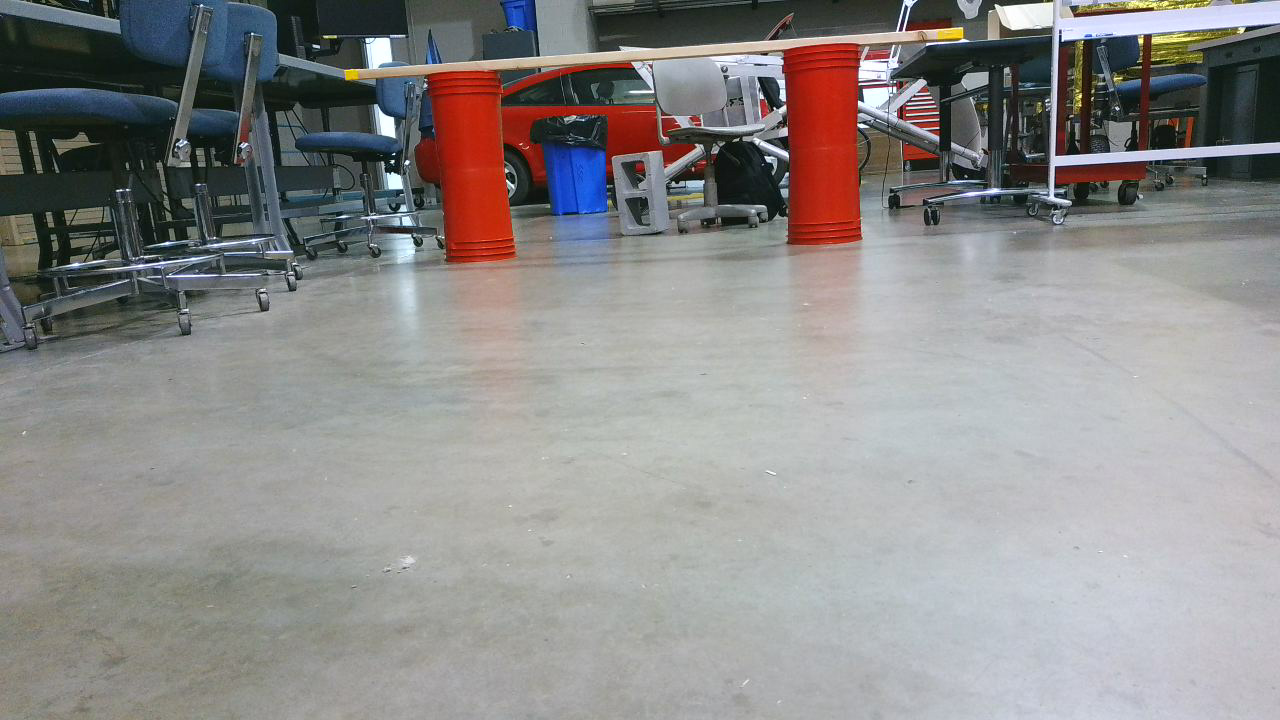red_bucket_arch: (431, 45, 865, 272)
